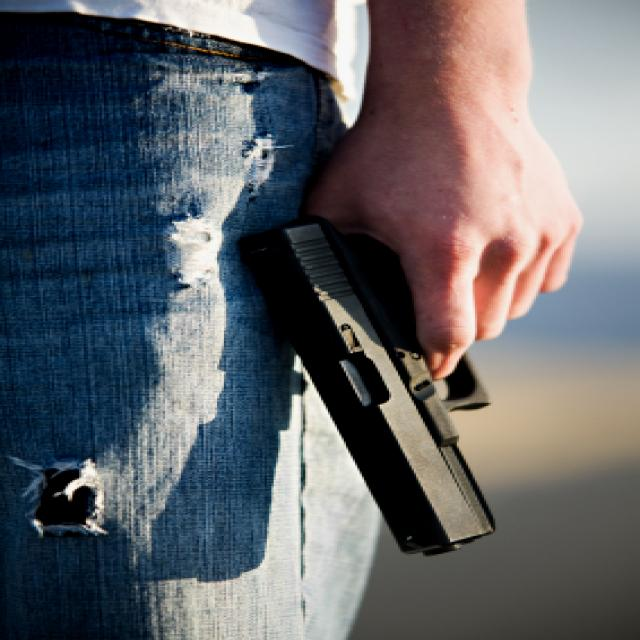pistol: (226, 211, 507, 557)
